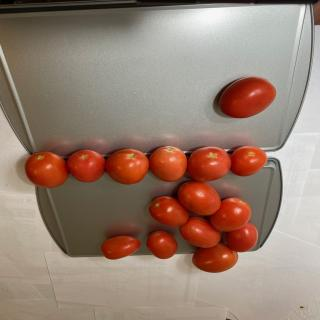Chilli: (24, 145, 268, 273)
Tomato: (219, 76, 277, 118), (186, 146, 232, 182), (24, 152, 69, 188), (106, 148, 150, 184), (178, 180, 221, 216), (210, 197, 251, 232), (192, 243, 238, 273), (149, 146, 187, 182), (179, 216, 221, 248), (66, 149, 105, 183), (149, 196, 189, 227), (230, 146, 268, 177), (101, 235, 141, 260), (146, 230, 178, 260), (226, 222, 258, 252)
